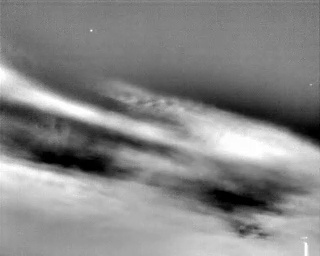BIRD: (88, 27, 95, 34)
